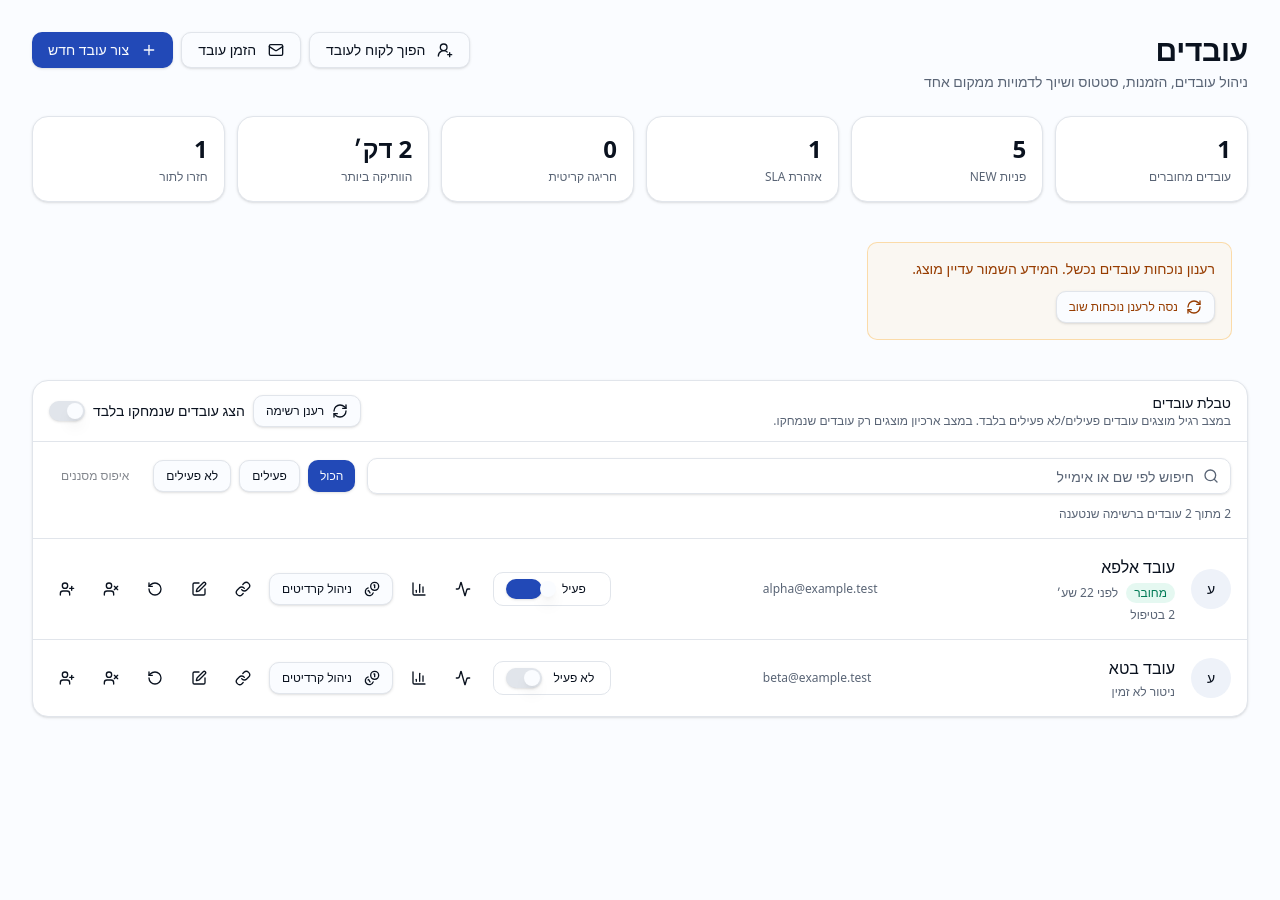
Test: admin operator workspace › keeps cached presence visible after a background failure and retries only that source
Expected: the text "עובד אלפא" is shown, [1101,556,1175,578]
Expected: the text "2 בטיפול" is shown, [1130,607,1175,623]
Click the button "נסה לרענן נוכחות שוב". click: (1135, 307)
box: [1056,291,1215,323]
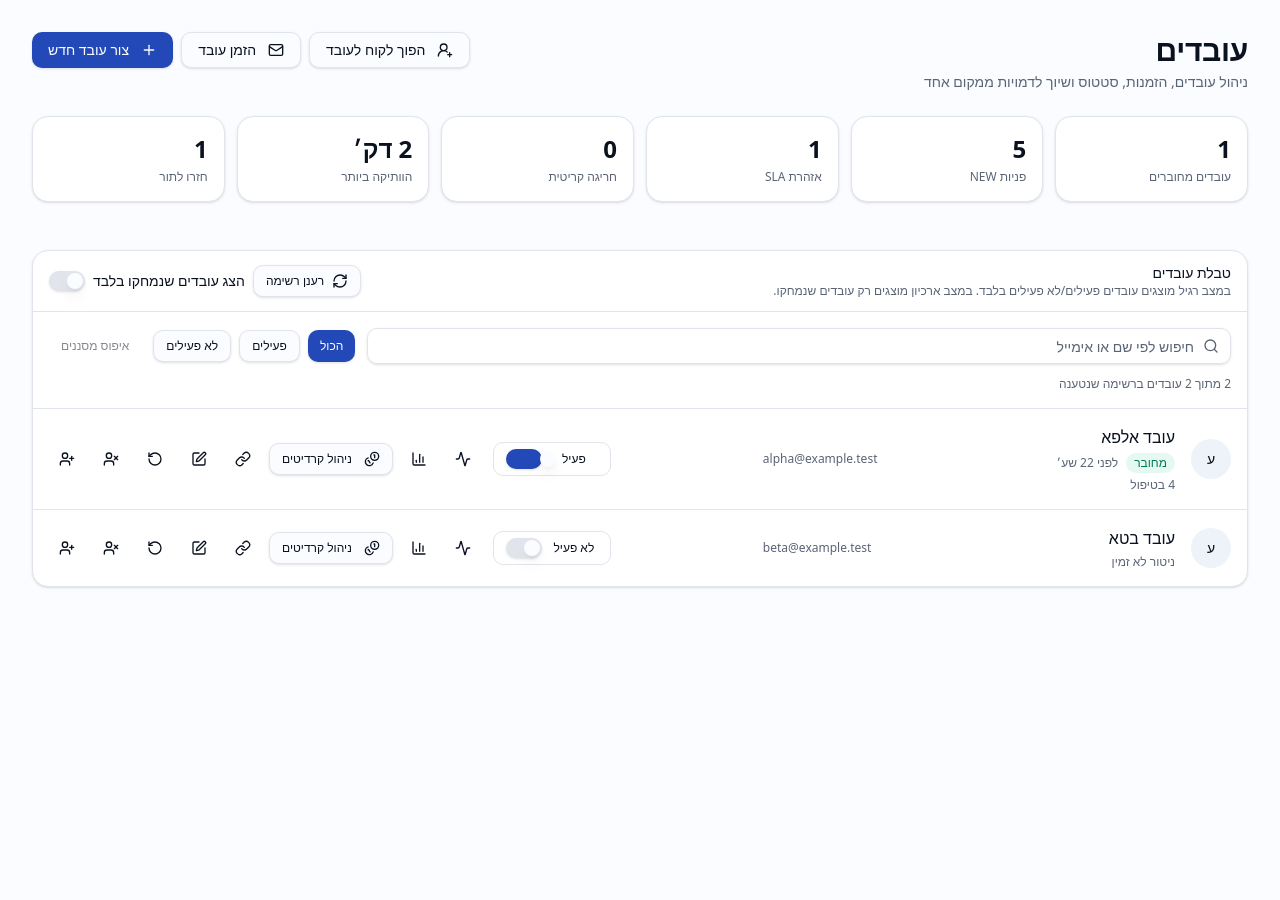
Now the text "4 בטיפול" is shown, box [1130,477,1175,493]
